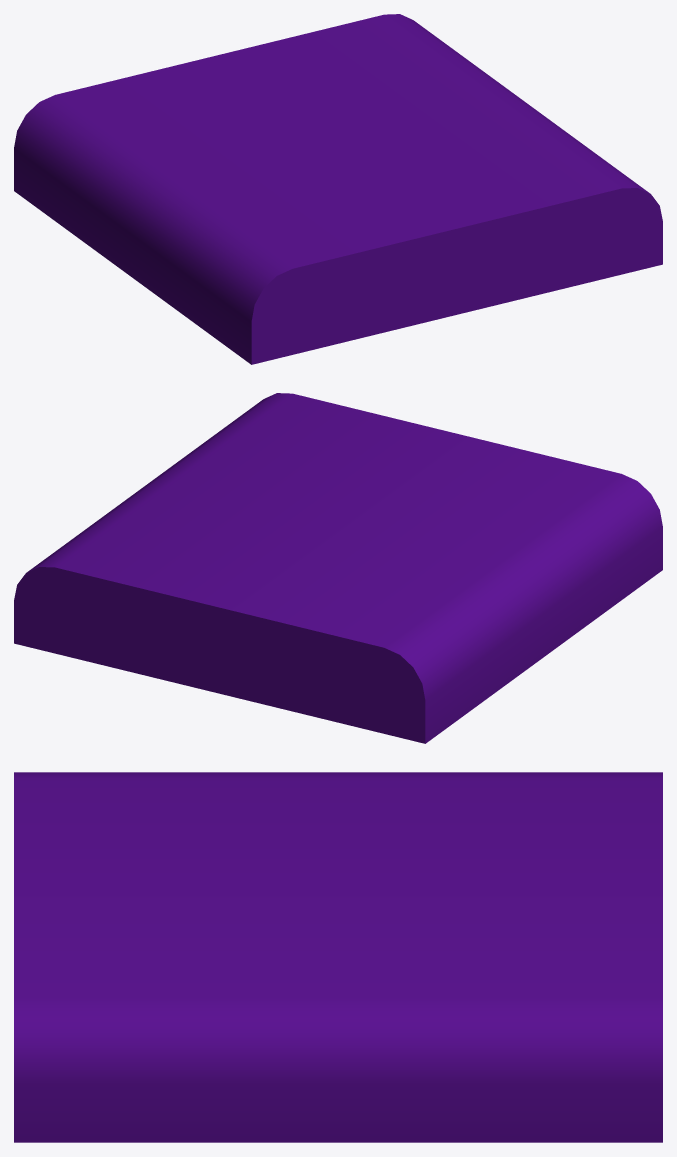
Rendered from base_catwalk_small.fbx.
The picture shows the model from 3 angles, top to bottom: view 1: azimuth 30°, elevation 25°; view 2: azimuth 150°, elevation 25°; view 3: azimuth 270°, elevation 25°; orthographic projection. The views are drawn at different scales.
Parts seen in each view (by area): view 1: Cube.007; view 2: Cube.007; view 3: Cube.007.
Boxes of the visible parts, x1=… form: Cube.007: x1=14, y1=14, x2=662, y2=364; Cube.007: x1=14, y1=393, x2=662, y2=743; Cube.007: x1=14, y1=772, x2=662, y2=1142.
Bounding box in the file's own units: 20 × 4 × 20.
